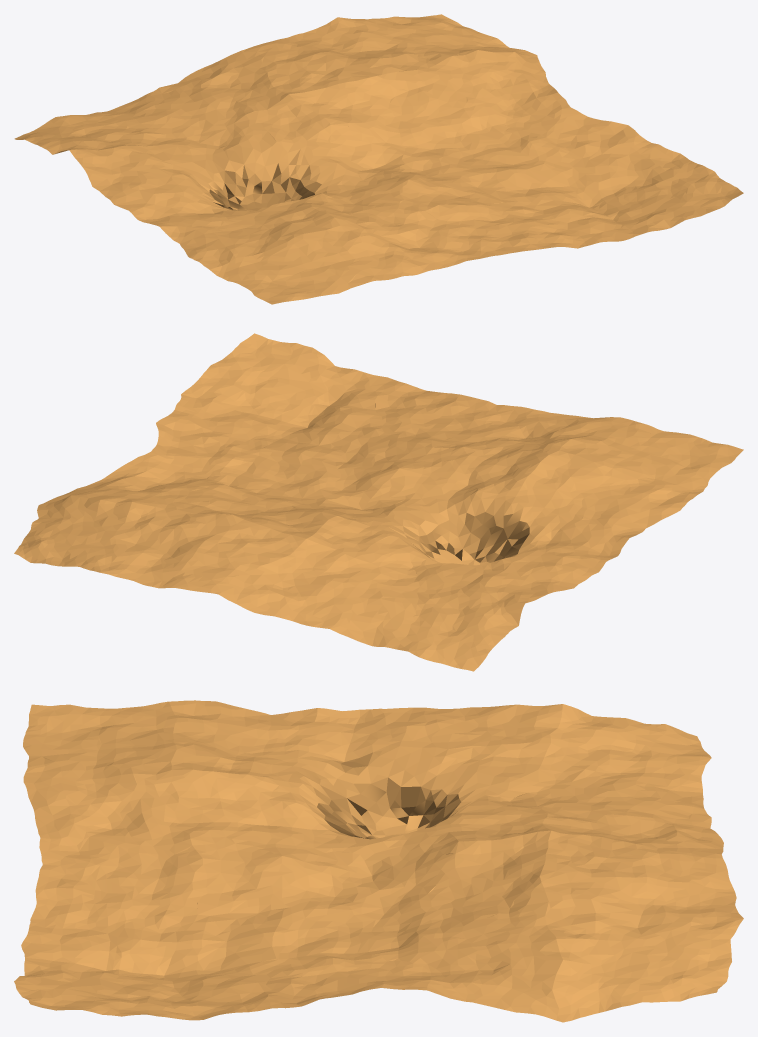
File: hole desert landscape.fbx
3 views of the same model, one above another, from view 1: azimuth 30°, elevation 25°; view 2: azimuth 150°, elevation 25°; view 3: azimuth 270°, elevation 25° (orthographic). The views are drawn at different scales.
Visible parts, largest first — view 1: Environment_1; view 2: Environment_1; view 3: Environment_1.
Boxes of the visible parts, box(x1,y1,x2,y2) form: Environment_1: box(14, 14, 743, 304); Environment_1: box(14, 333, 743, 671); Environment_1: box(14, 700, 743, 1022).
Size of the model in its own units: 2142 by 221 by 2155.
